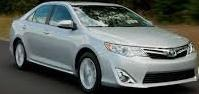Cars: (11, 4, 198, 93)
